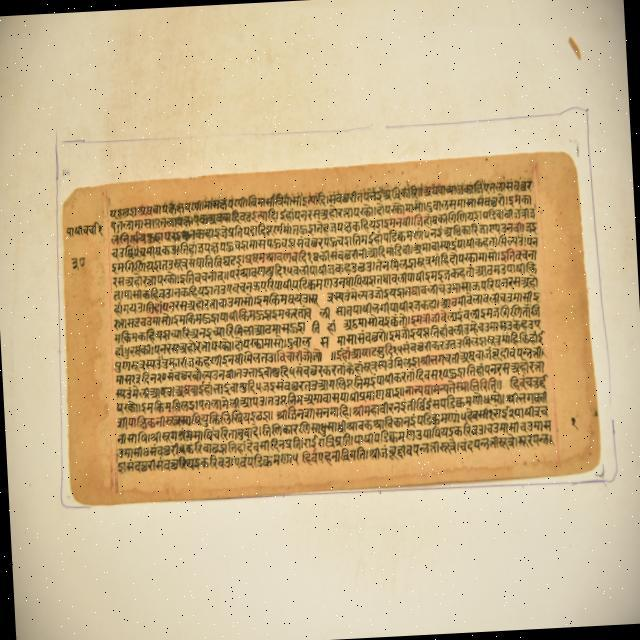text_paragraph: (61, 152, 600, 499)
